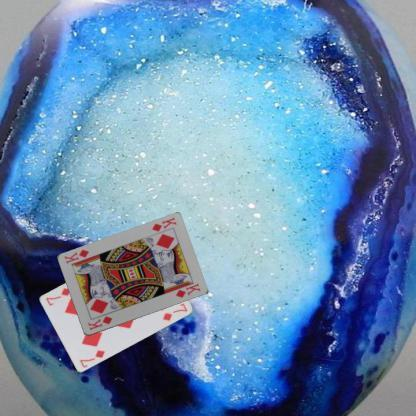7d: (77, 347, 106, 369)
Kd: (84, 314, 113, 332), (149, 215, 178, 233)
